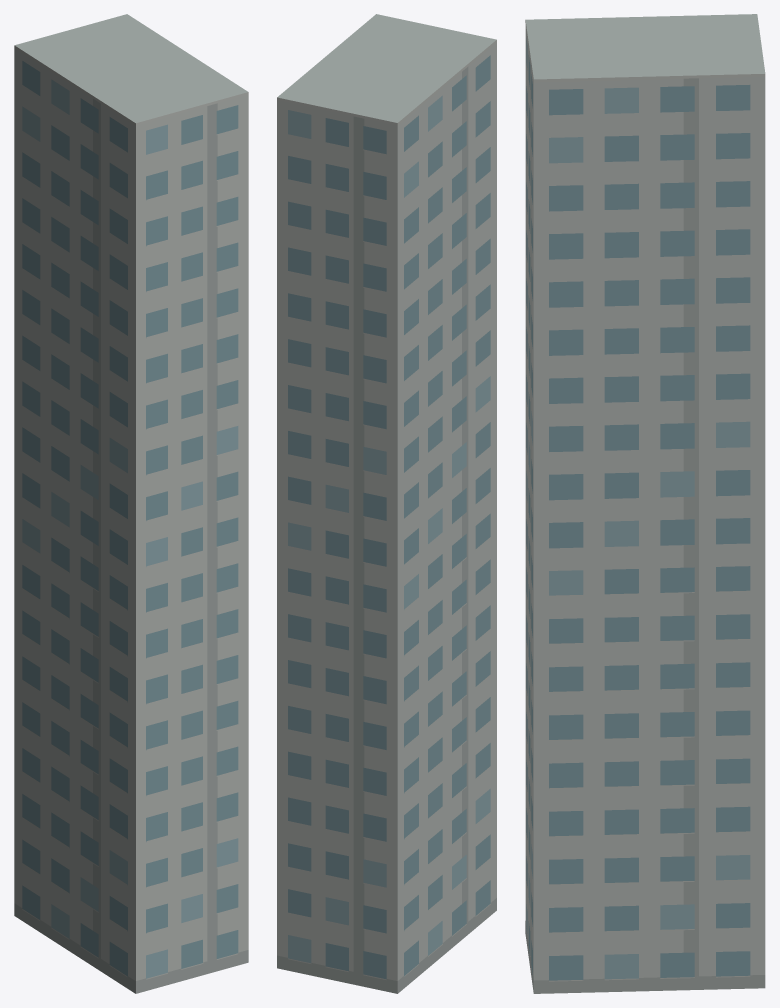
File: residential-575dc366-431b-4037-957f-1215de2863a8.glb
3 views of the same model, side by side, from view 1: azimuth 30°, elevation 25°; view 2: azimuth 150°, elevation 25°; view 3: azimuth 270°, elevation 25° (orthographic). The views are drawn at different scales.
Parts seen in each view (by area): view 1: residential-575dc366-431b-4037-957f-1215de2863a8.tmp; view 2: residential-575dc366-431b-4037-957f-1215de2863a8.tmp; view 3: residential-575dc366-431b-4037-957f-1215de2863a8.tmp.
Boxes of the visible parts, x1,y1,x2,y2 form: residential-575dc366-431b-4037-957f-1215de2863a8.tmp: (14,14,248,993); residential-575dc366-431b-4037-957f-1215de2863a8.tmp: (277,14,496,993); residential-575dc366-431b-4037-957f-1215de2863a8.tmp: (525,14,765,993).
Size of the model in its own units: 12.14 by 79 by 18.79.
